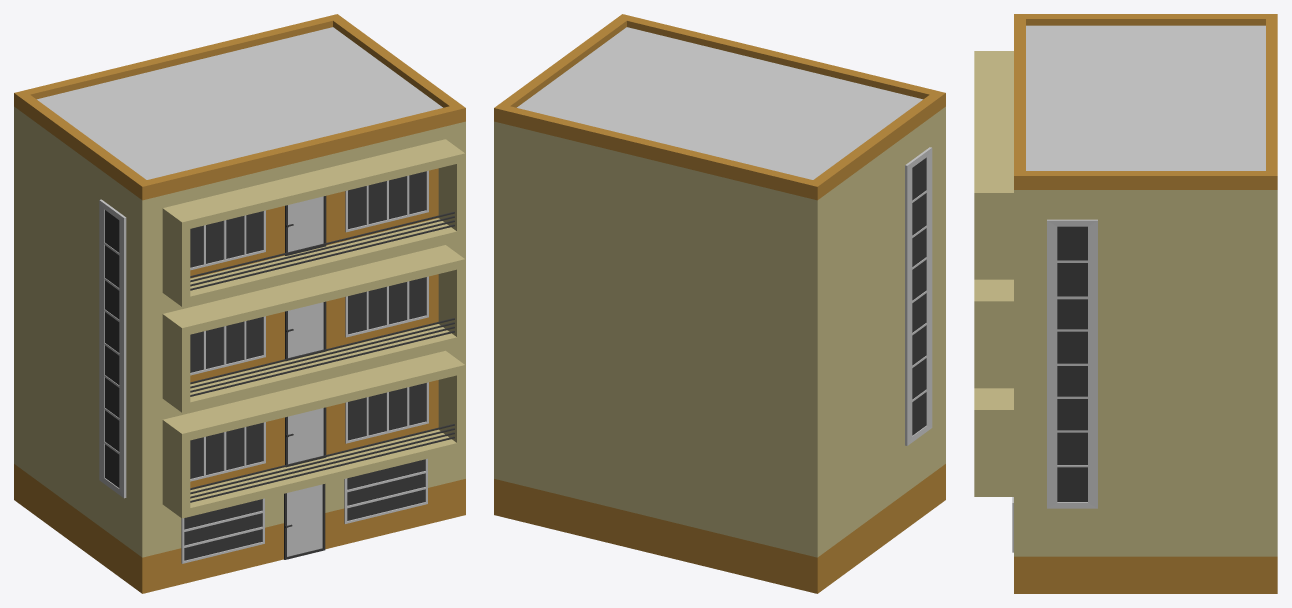
The model's file is building-residential-color03.glb.
3 views of the same model, side by side, from view 1: azimuth 30°, elevation 25°; view 2: azimuth 150°, elevation 25°; view 3: azimuth 270°, elevation 25° (orthographic). The views are drawn at different scales.
Parts seen in each view (by area): view 1: model; view 2: model; view 3: model.
Boxes of the visible parts, x1,y1,x2,y2 form: model: (14, 14, 465, 593); model: (494, 14, 945, 593); model: (974, 14, 1277, 593).
Size of the model in its own units: 16.23 by 19.24 by 12.66.
1 material, 1 textured.
